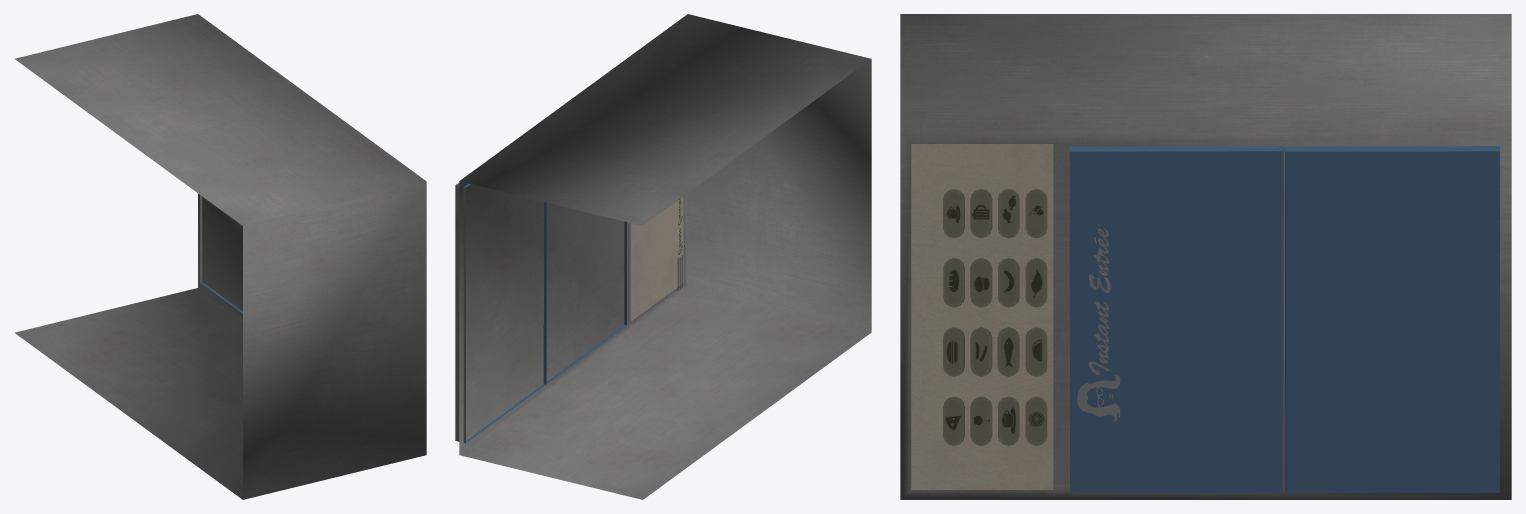
File: nt_2020_food_dispenser_blue_LOD1.obj
3 views of the same model, side by side, from view 1: azimuth 30°, elevation 25°; view 2: azimuth 150°, elevation 25°; view 3: azimuth 270°, elevation 25° (orthographic). The views are drawn at different scales.
Visible parts, largest first — view 1: metal_stainless_steel_editor; view 2: metal_stainless_steel_editor, pent_art_wall_creampaint02, nt_2020_plastic_blue; view 3: nt_2020_plastic_blue, metal_stainless_steel_editor, pent_art_wall_creampaint02, mtl_nt_2020_food_dispenser, mtl_nt_2020_food_disp_decals.
Part boxes in pixels (bbox=[...]): metal_stainless_steel_editor: bbox=[14, 14, 426, 499]; metal_stainless_steel_editor: bbox=[455, 14, 871, 499]; pent_art_wall_creampaint02: bbox=[630, 196, 683, 321]; nt_2020_plastic_blue: bbox=[456, 183, 626, 442]; nt_2020_plastic_blue: bbox=[1069, 146, 1499, 492]; metal_stainless_steel_editor: bbox=[900, 14, 1511, 499]; pent_art_wall_creampaint02: bbox=[911, 144, 1053, 489]; mtl_nt_2020_food_dispenser: bbox=[943, 189, 1047, 445]; mtl_nt_2020_food_disp_decals: bbox=[1077, 228, 1120, 421].
Bounding box in the file's own units: 69.34 × 94.03 × 142.
